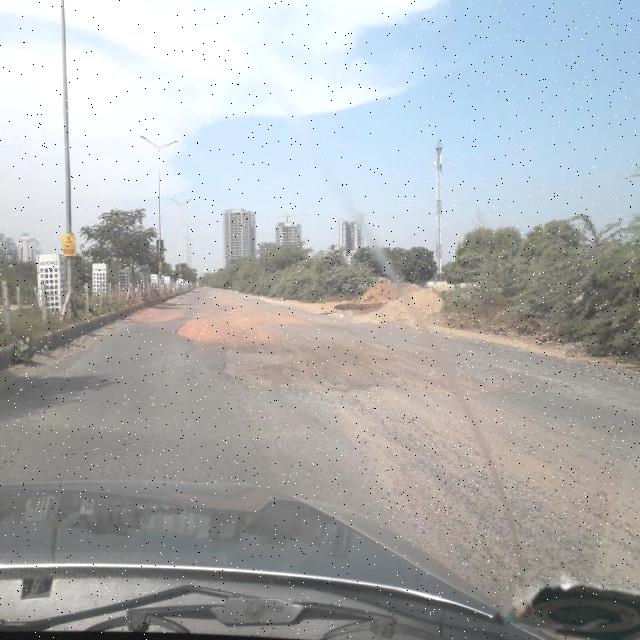D40: (208, 347, 508, 407), (134, 303, 351, 341)
